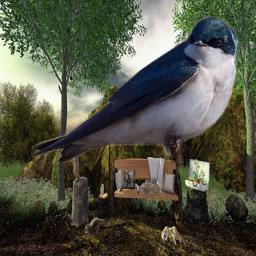Swallow: (30, 16, 239, 163)
